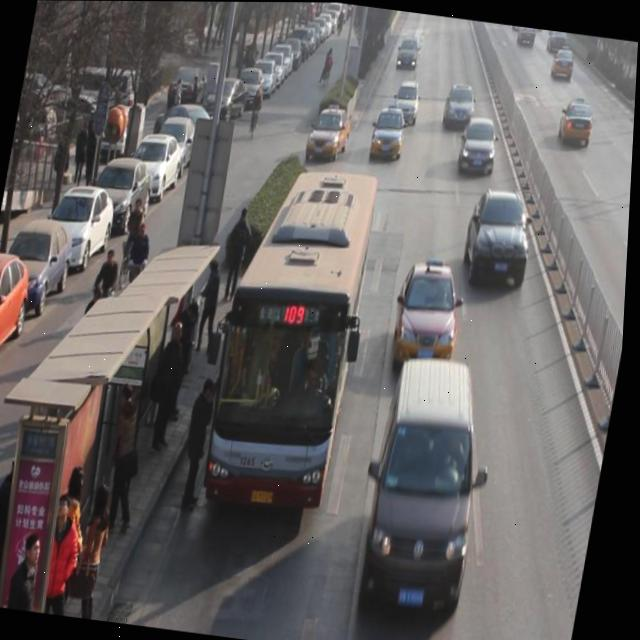car: (391, 254, 471, 362), (461, 183, 542, 289), (306, 100, 356, 164), (457, 112, 503, 176), (370, 100, 410, 159), (557, 93, 597, 145), (444, 79, 480, 128), (393, 76, 424, 125), (550, 40, 578, 78), (395, 33, 421, 69)
truck: (360, 351, 505, 614)
van: (201, 159, 383, 511)
